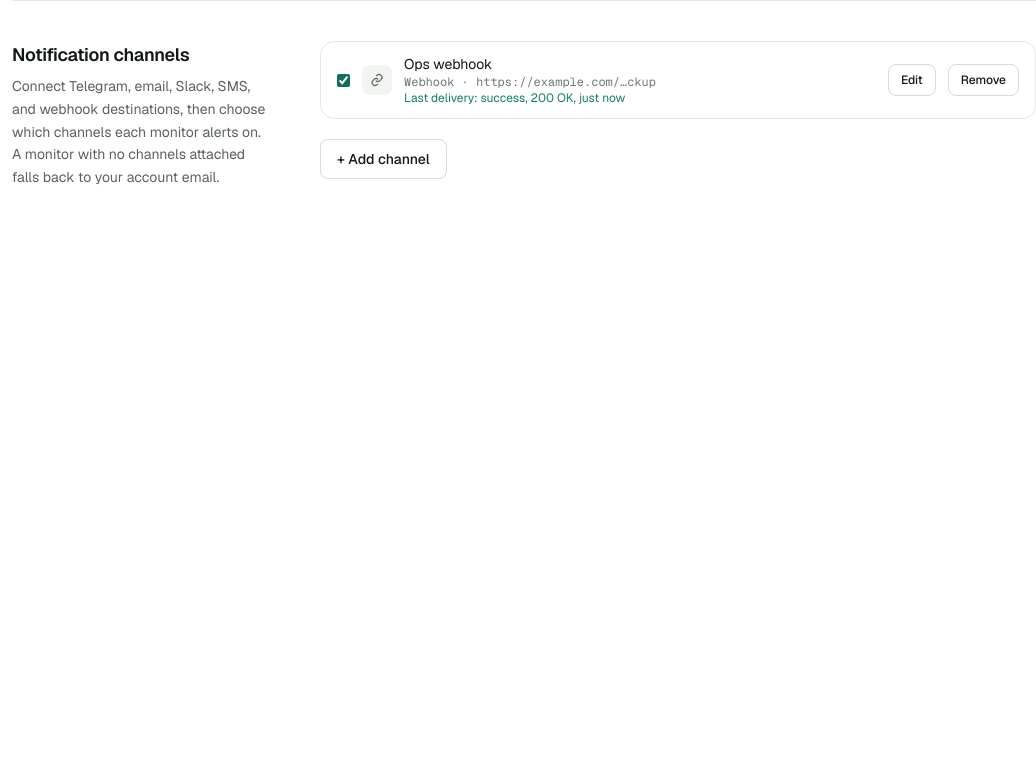
Test case: NotificationChannelsCard › regenerates the webhook signing secret
Click the button "Edit" at (912, 80), box [888,64,936,96]
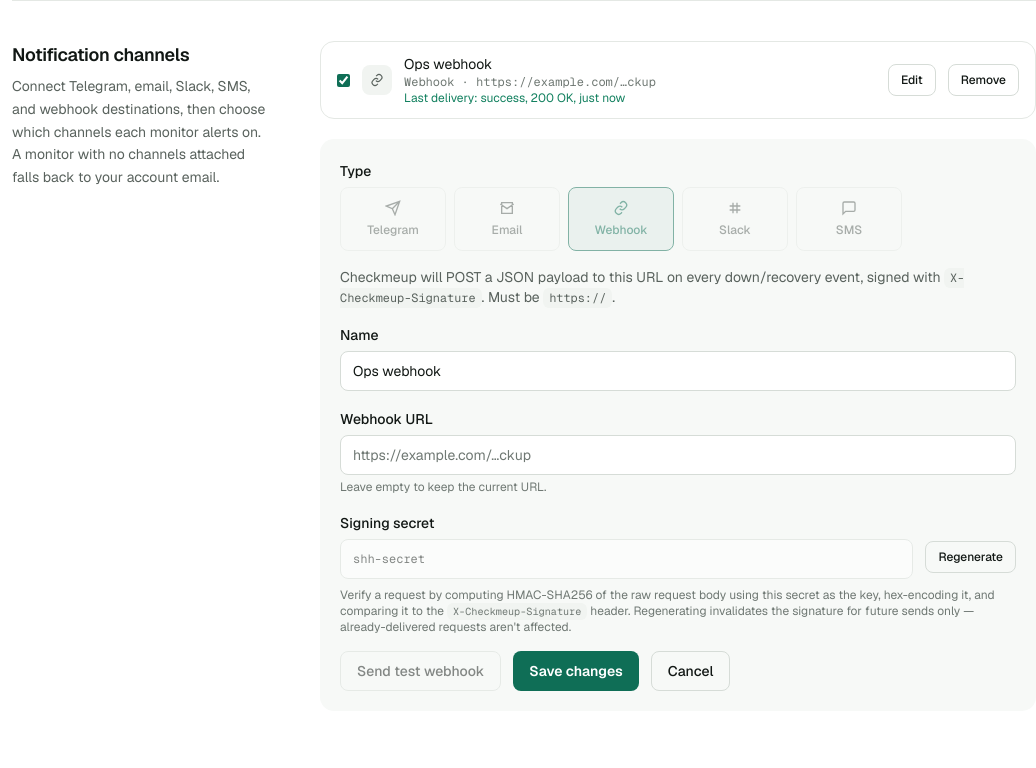
Click the button "Regenerate" at (971, 557), box [925,541,1016,573]
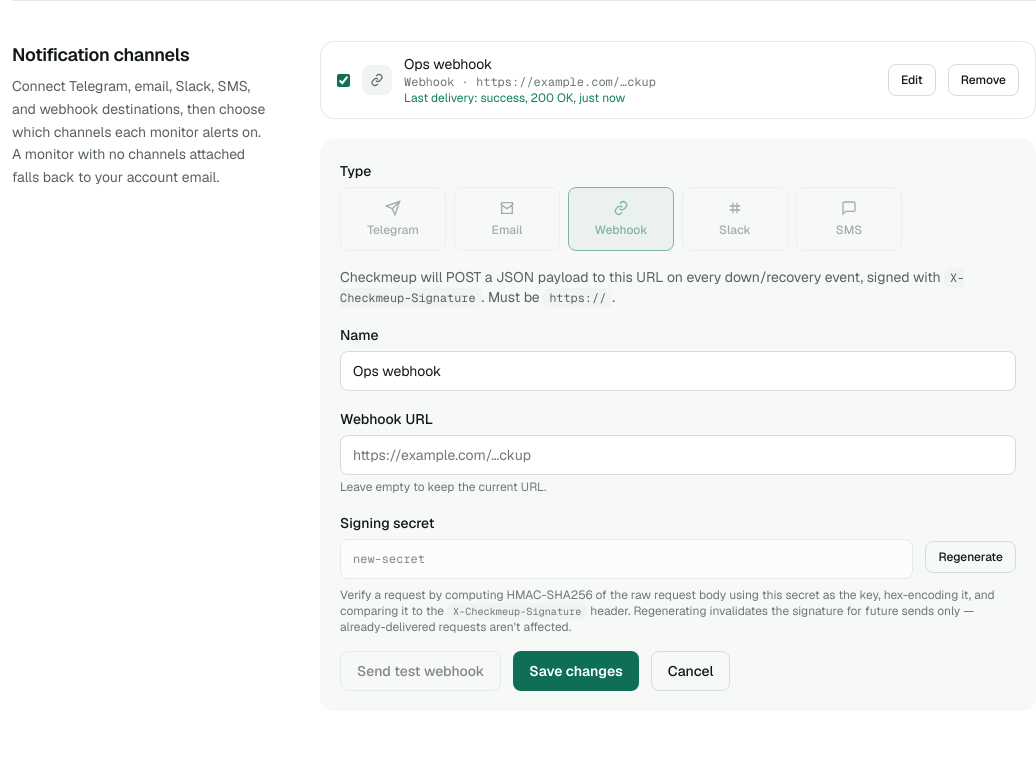
expect the field with id "channel-secret" holds "new-secret": met, box [340,539,913,579]
